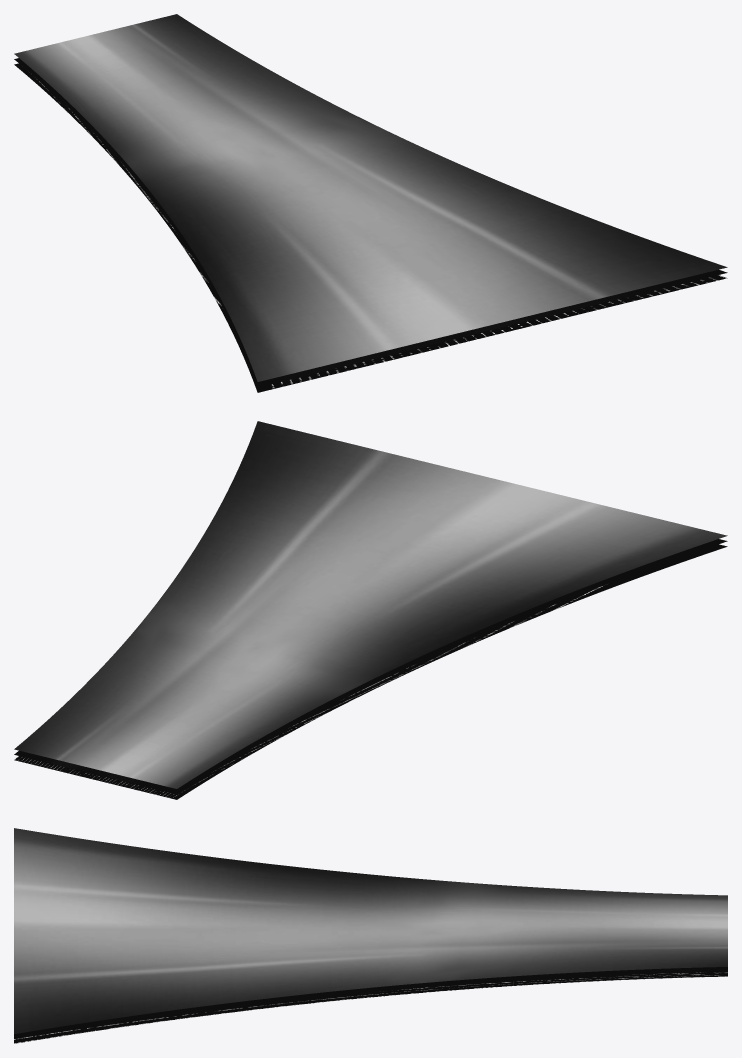
Rendered from chufeng.obj.
3 views of the same model, one above another, from view 1: azimuth 30°, elevation 25°; view 2: azimuth 150°, elevation 25°; view 3: azimuth 270°, elevation 25° (orthographic). The views are drawn at different scales.
Parts seen in each view (by area): view 1: chufeng01, chufeng02, chufeng03; view 2: chufeng01, chufeng03, chufeng02; view 3: chufeng01, chufeng03, chufeng02.
Boxes of the visible parts, left/top/right/bottom form: chufeng01: left=14, top=14, right=727, bottom=381; chufeng02: left=14, top=58, right=727, bottom=387; chufeng03: left=14, top=63, right=727, bottom=392; chufeng01: left=14, top=421, right=727, bottom=788; chufeng03: left=14, top=544, right=727, bottom=799; chufeng02: left=14, top=539, right=727, bottom=794; chufeng01: left=14, top=828, right=727, bottom=1033; chufeng03: left=14, top=971, right=727, bottom=1043; chufeng02: left=14, top=967, right=727, bottom=1038.
Size of the model in its own units: 547 by 12 by 800.
3 materials, 3 textured.
